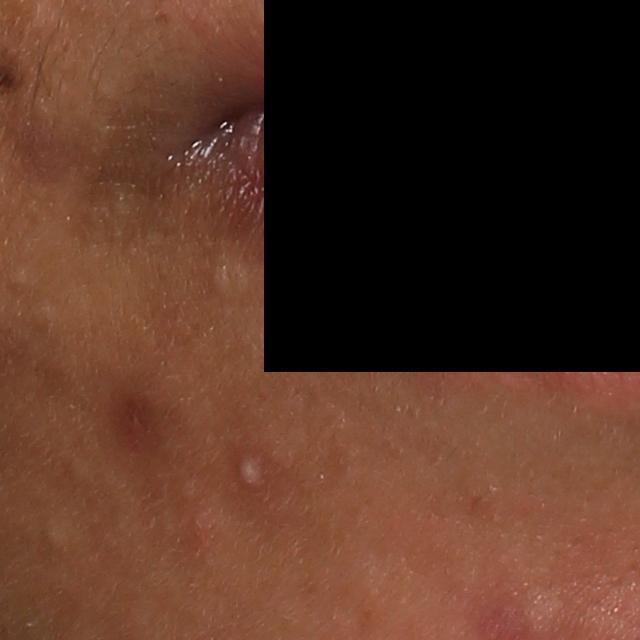comedo: (39, 522, 67, 553), (4, 263, 31, 294)
hypertrophic_scar: (201, 249, 257, 307)
pustule: (233, 439, 274, 496)
